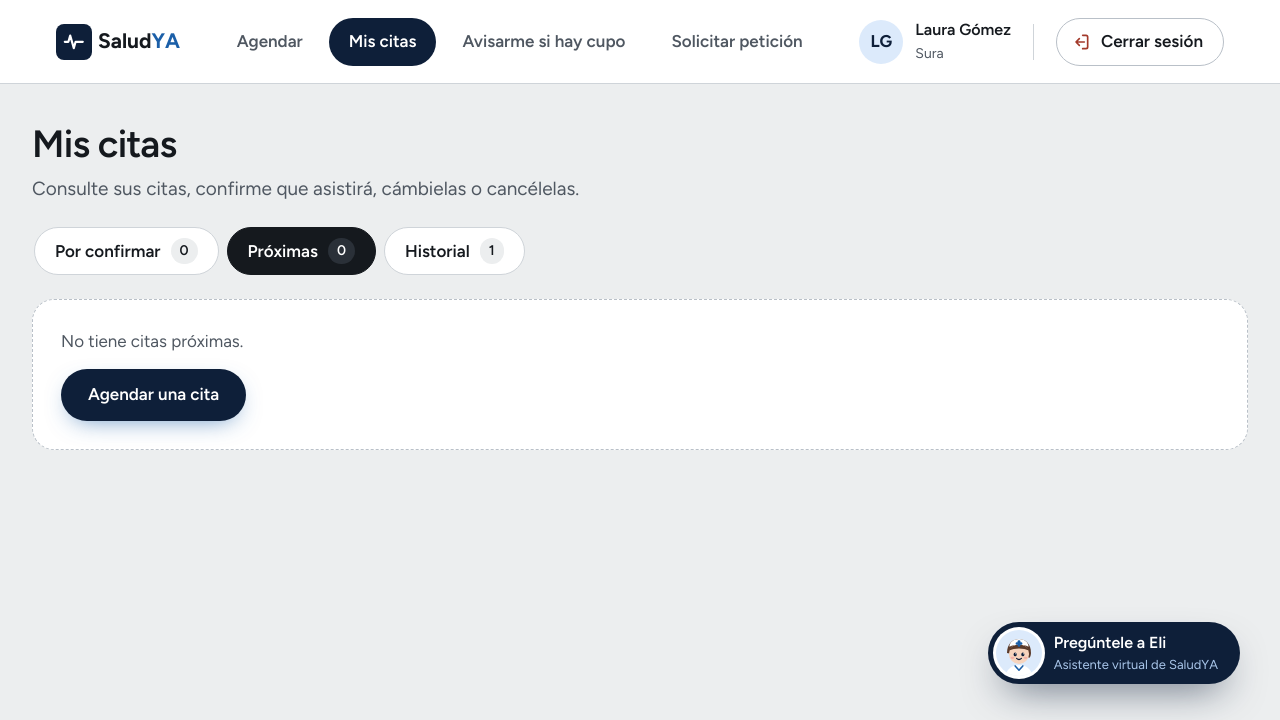
Test case: Pago en línea de una cita atendida › en el detalle: 'Pagar' si falta y, ya pagada, el enlace al comprobante
Click the tab "Historial 1".
click(454, 251)  # box [384,227,524,275]
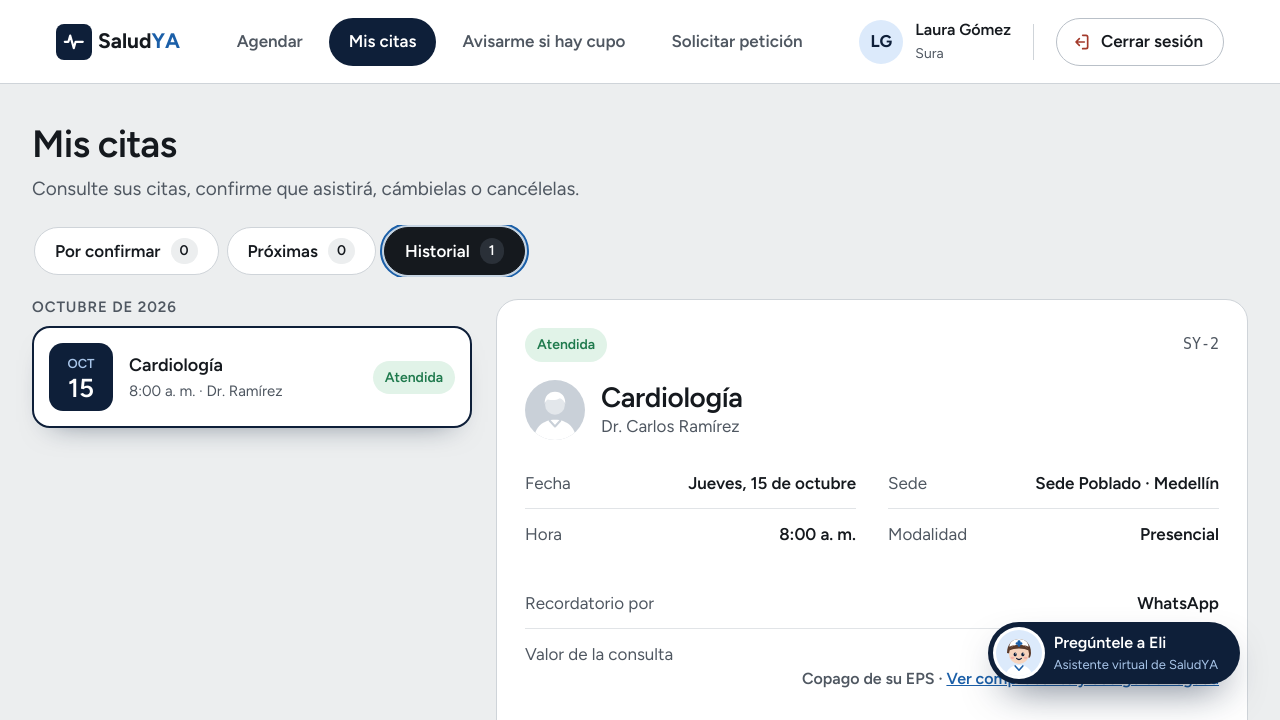
Expected: the text "$8.000 · Pagado" is shown, [802,641,1219,692]
